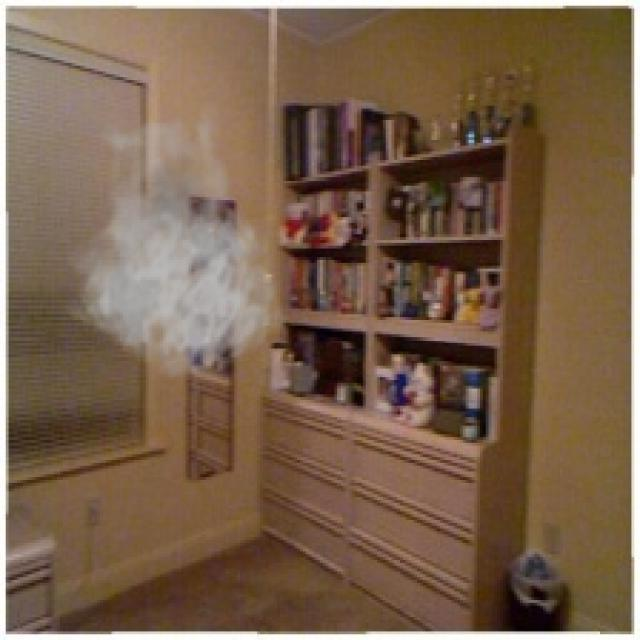Smoke: (60, 97, 289, 380)
